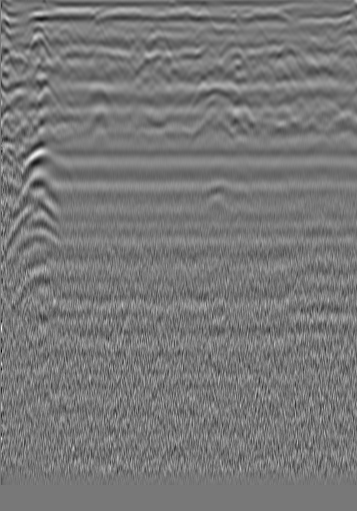상수: (312, 24, 332, 44)
오수: (26, 21, 46, 41)
우수: (145, 22, 165, 42)
